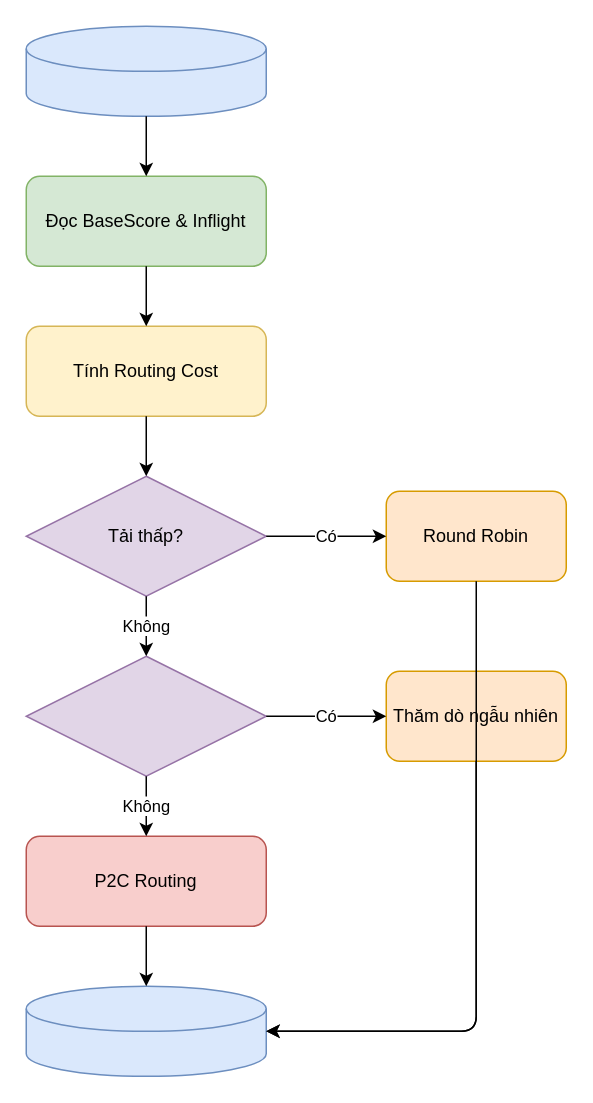
Image size: 593x1103. Some labels were removed from this diagram. Here are the shapes that lost their labels. From the top down, the centre of each, then its label:
At pixel 145 70: "Yêu cầu từ người dùng".
At pixel 145 715: "Cần thăm dò?".
At pixel 145 1030: "Forward tới Backend".
